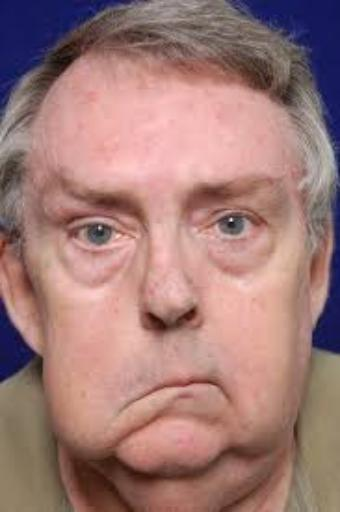left_eye: (198, 215, 270, 249)
left_lip_corner: (208, 375, 228, 401)
right_eye: (67, 221, 133, 257)
right_lip_corner: (114, 392, 160, 413)
